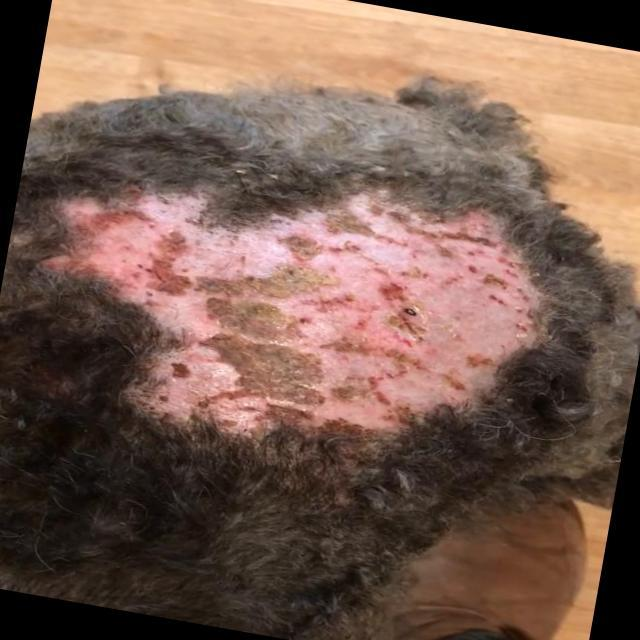allergic dermatitis: (42, 164, 526, 483)
